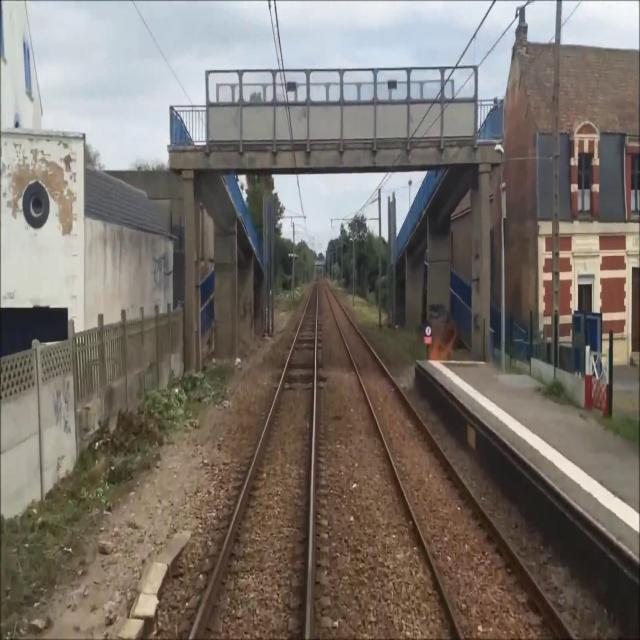rail-track: (324, 280, 572, 639), (192, 285, 316, 639)
